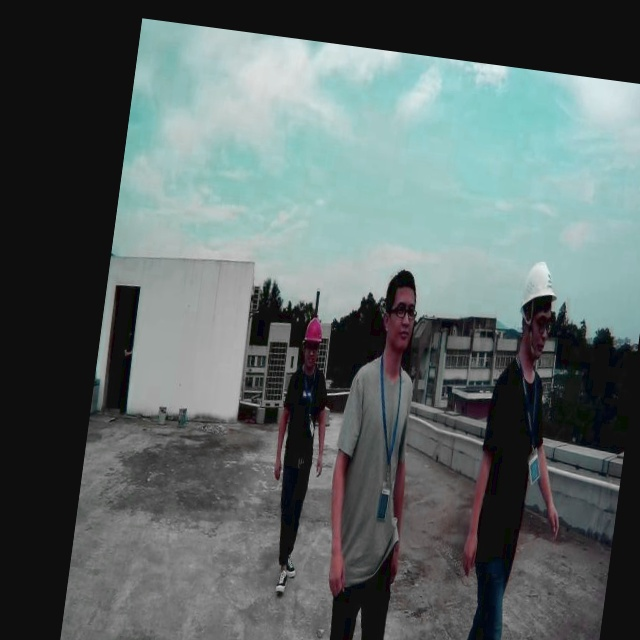Con_Casco: (513, 260, 560, 358)
Sin_Casco_Mascarrilla: (380, 267, 420, 350)
Sin_Chaleco: (329, 361, 416, 575)
